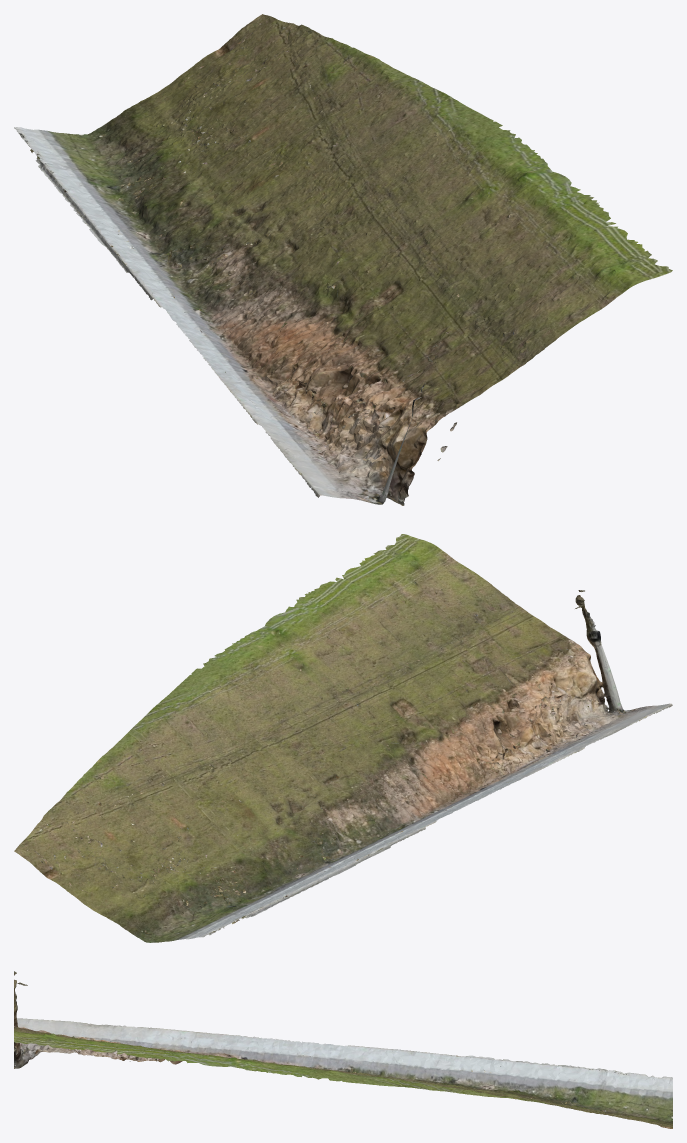
3 views of the same model, one above another, from view 1: azimuth 30°, elevation 25°; view 2: azimuth 150°, elevation 25°; view 3: azimuth 270°, elevation 25° (orthographic). The views are drawn at different scales.
Bounding box in the file's own units: 10.26 × 4.12 × 20.22.
1 material, 1 textured.
